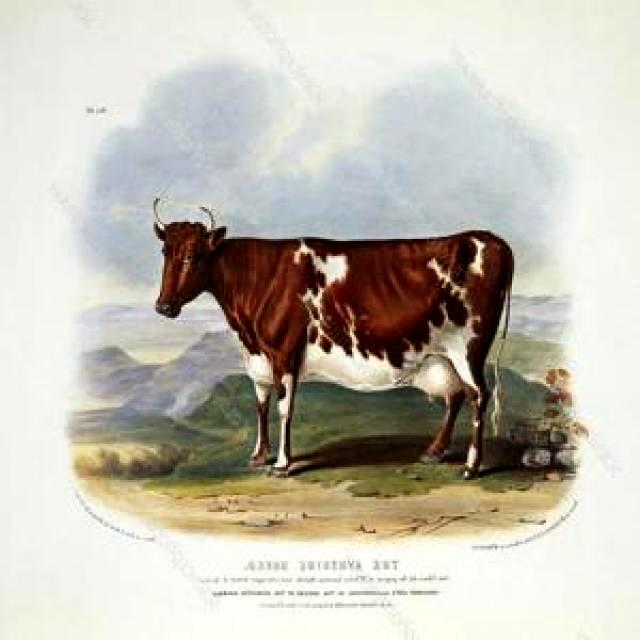COW: (155, 222, 512, 474)
